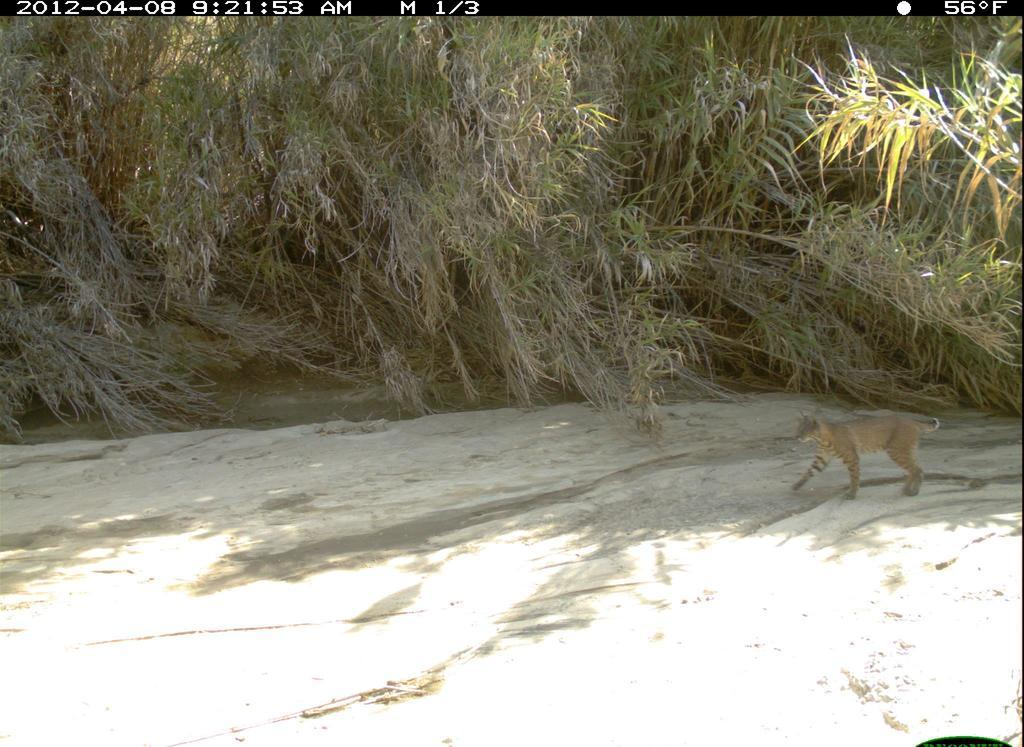bobcat: (752, 399, 955, 512)
